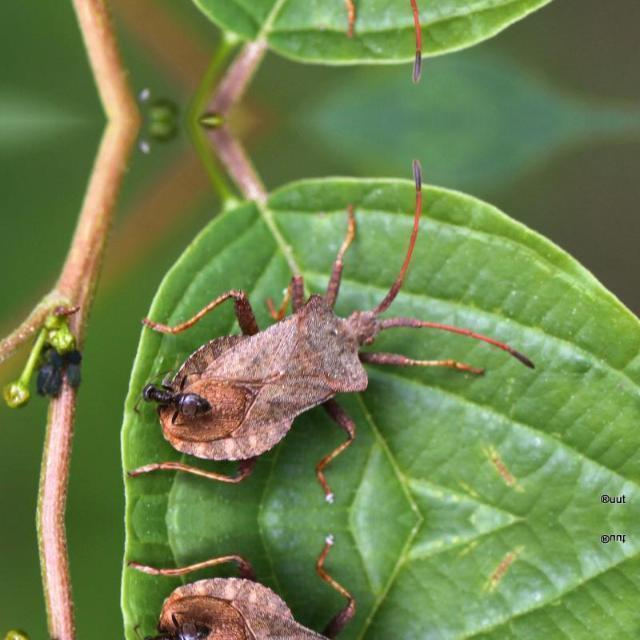Lasius: (130, 369, 222, 425), (128, 610, 222, 640)
